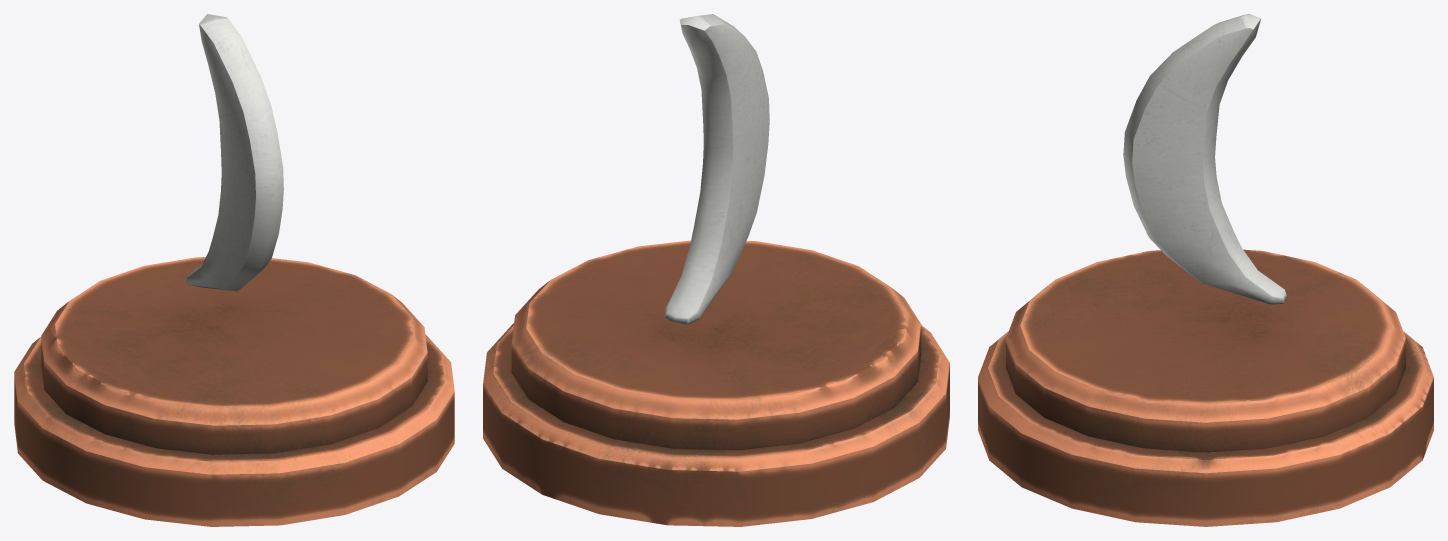
Rendered from LUABRONZE.fbx.
3 views of the same model, side by side, from view 1: azimuth 30°, elevation 25°; view 2: azimuth 150°, elevation 25°; view 3: azimuth 270°, elevation 25° (orthographic). The views are drawn at different scales.
Parts seen in each view (by area): view 1: polySurface83, polySurface82; view 2: polySurface83, polySurface82; view 3: polySurface83, polySurface82.
Part boxes in pixels (box(x1,y1,x2,y2)): polySurface83: box(14, 257, 454, 526); polySurface82: box(185, 14, 283, 291); polySurface83: box(483, 240, 949, 526); polySurface82: box(665, 14, 769, 324); polySurface83: box(978, 249, 1433, 526); polySurface82: box(1123, 14, 1287, 304).
Size of the model in its own units: 0.4773 by 0.4784 by 0.4773.
Materials: 1 (1 with a texture image).
